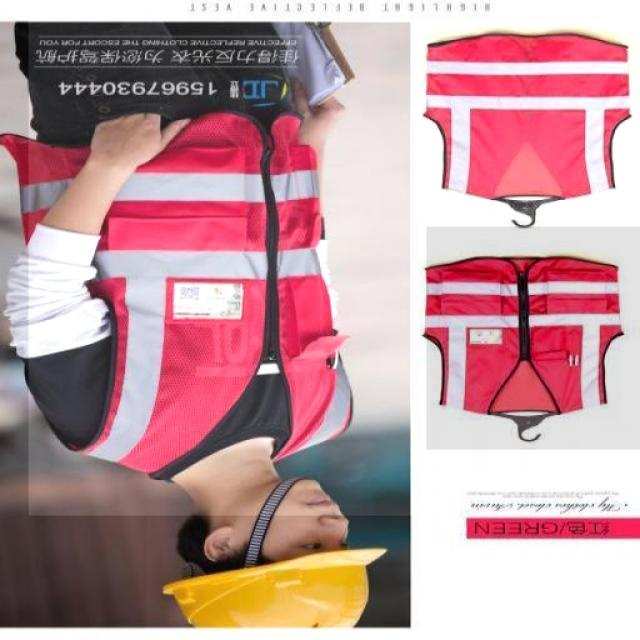Helmet: (146, 512, 408, 640)
Safety Vest: (29, 19, 416, 516), (426, 226, 640, 449), (411, 19, 640, 220)
